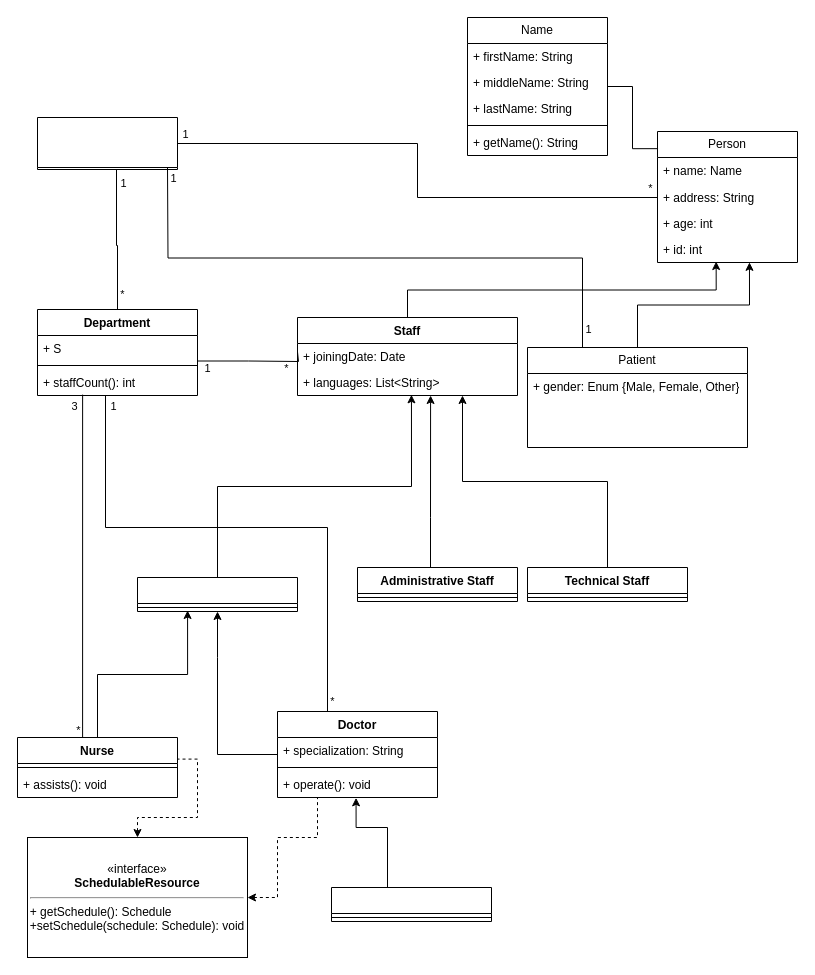
Image size: 815x975. Some labels were removed from this diagram. Here are the shapes that lost their labels. From the top down, the centre of each, then its label:
pixel 107 143: Hospital
pixel 217 594: Operation Staff
pixel 411 904: Surgeon
